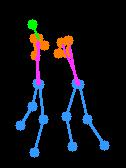normal: (52, 32, 115, 158)
